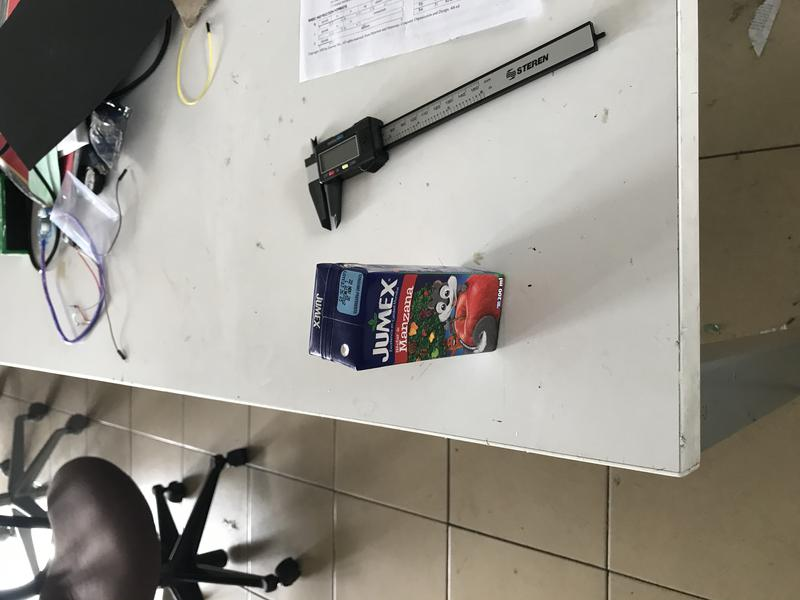jumex_cajita: (309, 263, 507, 371)
